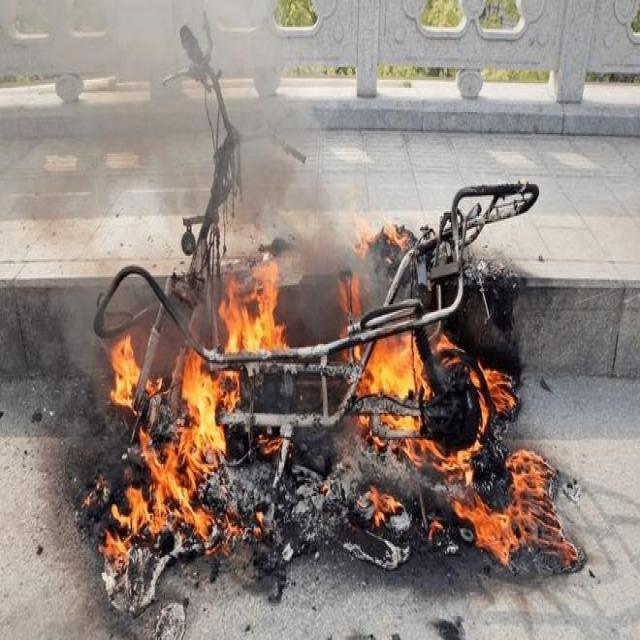Fire: (105, 424, 231, 570), (218, 263, 288, 350), (173, 352, 238, 424), (454, 490, 518, 562), (360, 333, 426, 396), (512, 451, 554, 547), (380, 410, 432, 464), (472, 360, 514, 422), (109, 336, 142, 412), (436, 443, 482, 485)
